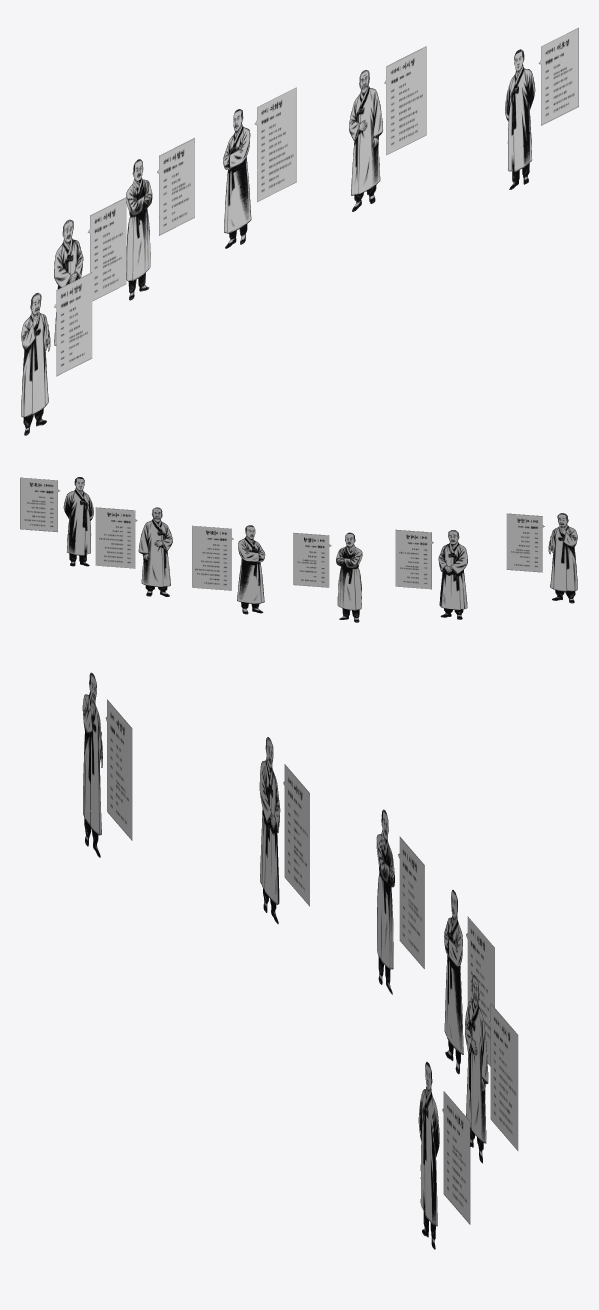
File: 6Bro_0814.glb
The picture shows the model from 3 angles, top to bottom: view 1: azimuth 30°, elevation 25°; view 2: azimuth 150°, elevation 25°; view 3: azimuth 270°, elevation 25°; orthographic projection. The views are drawn at different scales.
Visible parts, largest first — view 1: Plane; view 2: Plane; view 3: Plane.
Boxes of the visible parts, bbox=[...] form: Plane: bbox=[21, 27, 578, 435]; Plane: bbox=[20, 477, 577, 622]; Plane: bbox=[82, 672, 518, 1249].
Size of the model in its own units: 11.88 by 2.2 by 4.83.
6 materials, 6 textured.
